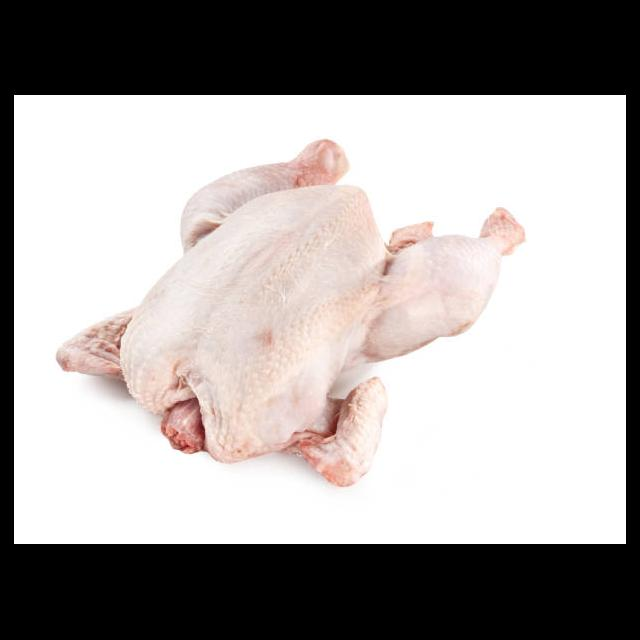chicken: (54, 137, 526, 490)
